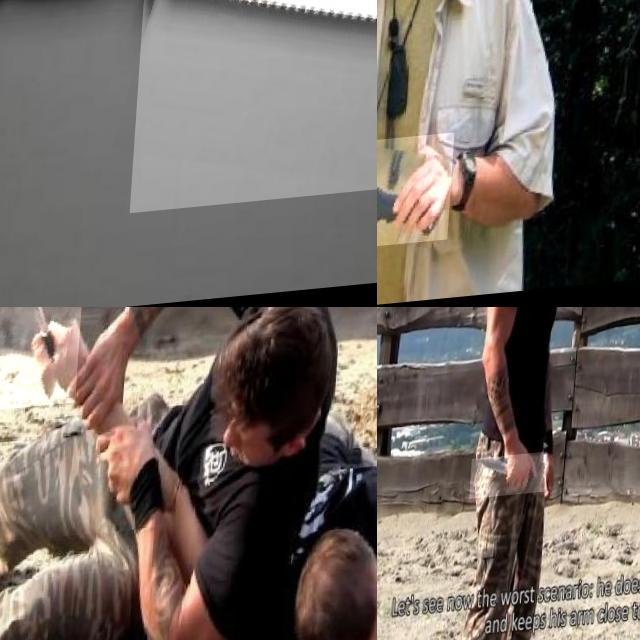-: (137, 0, 377, 252), (377, 140, 461, 259), (0, 307, 87, 413), (476, 458, 552, 502)
